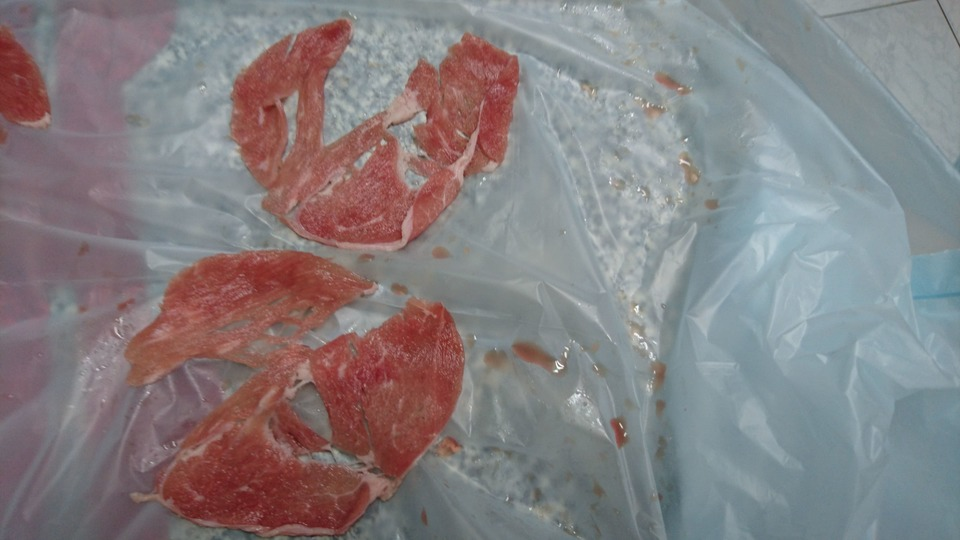restructured meat: (143, 244, 469, 533), (215, 24, 516, 243)
